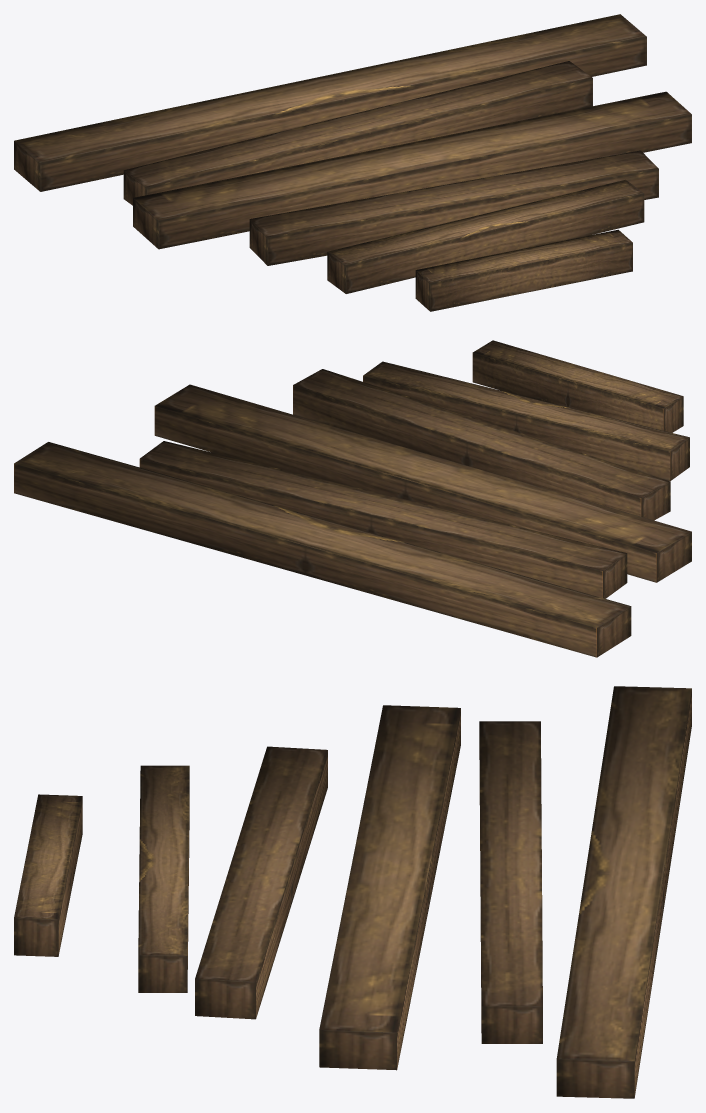
The model's file is Plank_02.fbx.
The picture shows the model from 3 angles, top to bottom: view 1: azimuth 30°, elevation 25°; view 2: azimuth 150°, elevation 25°; view 3: azimuth 270°, elevation 25°; orthographic projection. The views are drawn at different scales.
Visible parts, largest first — view 1: Plank_02; view 2: Plank_02; view 3: Plank_02.
Part boxes in pixels (x1,y1,x2,y2): Plank_02: (14,14,691,311); Plank_02: (14,340,691,657); Plank_02: (14,686,691,1098).
Bounding box in the file's own units: 0.8174 × 0.0381 × 0.6244.
